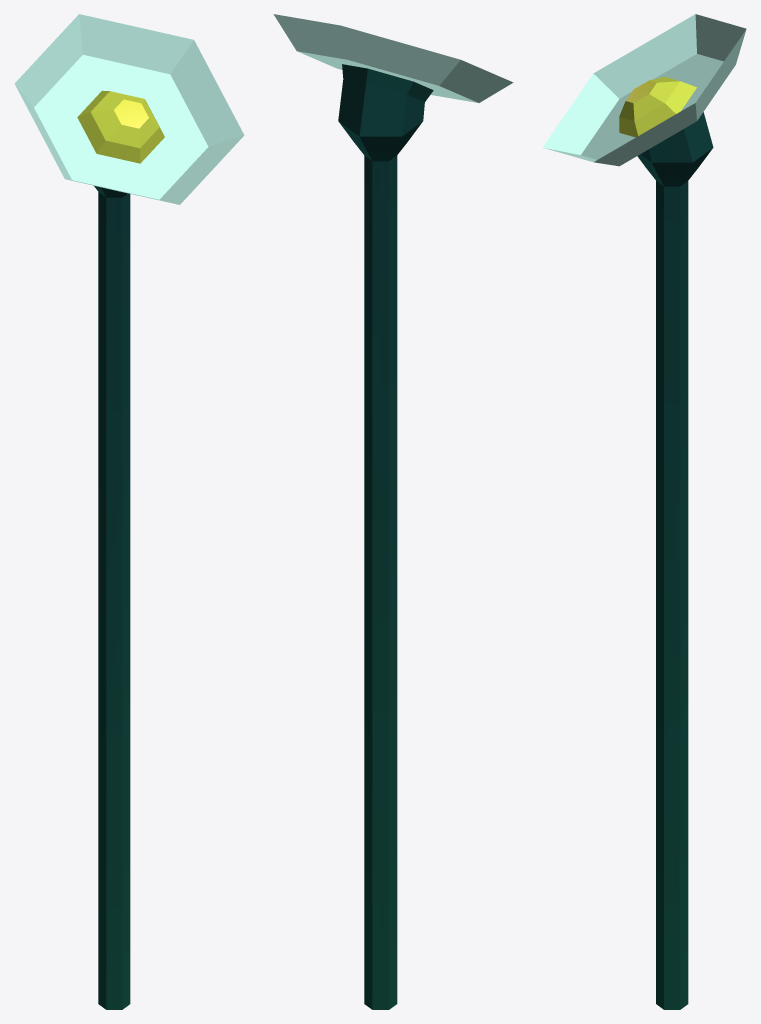
The model's file is Flowers_WhiteDoodleGuy.fbx.
3 renders of one model, left to right at view 1: azimuth 30°, elevation 25°; view 2: azimuth 150°, elevation 25°; view 3: azimuth 270°, elevation 25°, orthographic. The views are drawn at different scales.
Visible parts, largest first — view 1: Cylinder.147; view 2: Cylinder.147; view 3: Cylinder.147.
Part boxes in pixels (x1,y1,x2,y2): Cylinder.147: [14, 14, 244, 1009]; Cylinder.147: [273, 14, 513, 1009]; Cylinder.147: [542, 14, 746, 1009].
Size of the model in its own units: 8.45 by 43.27 by 8.21.
